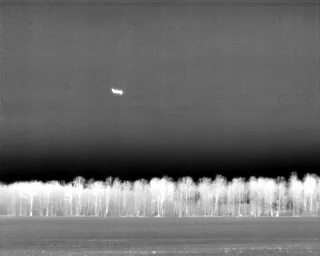DRONE: (108, 84, 126, 98)
